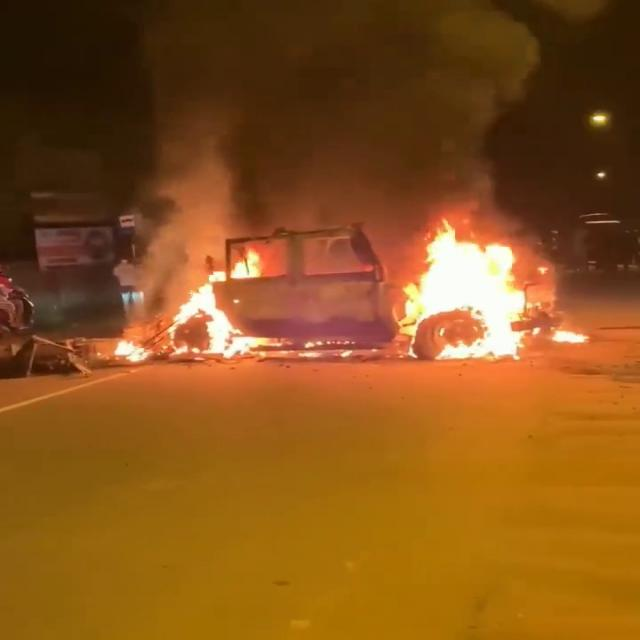Fire: (410, 221, 525, 361), (166, 286, 246, 357), (87, 339, 149, 363), (228, 244, 263, 279)
Smoke: (138, 11, 540, 279)
